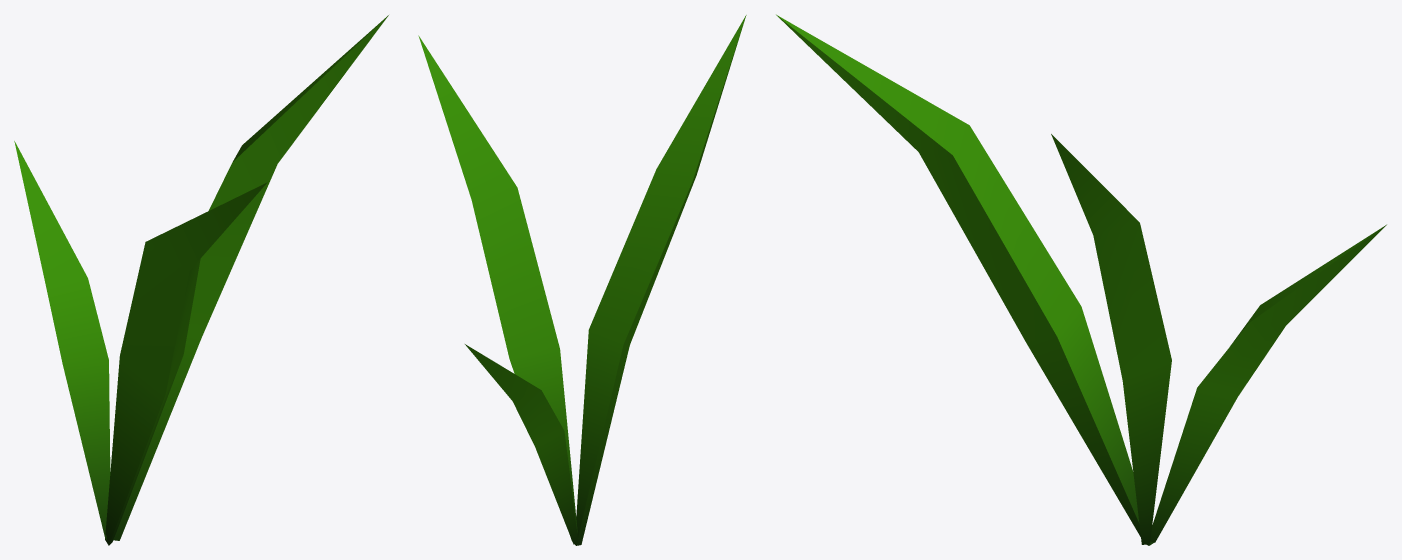
File: ENV_Vegetation_Grass_03.fbx
3 renders of one model, left to right at view 1: azimuth 30°, elevation 25°; view 2: azimuth 150°, elevation 25°; view 3: azimuth 270°, elevation 25°, orthographic. The views are drawn at different scales.
Parts seen in each view (by area): view 1: ENV_Vegetation_Grass_03; view 2: ENV_Vegetation_Grass_03; view 3: ENV_Vegetation_Grass_03.
Part boxes in pixels (x1,y1,x2,y2): ENV_Vegetation_Grass_03: (14, 15, 388, 545); ENV_Vegetation_Grass_03: (418, 15, 746, 545); ENV_Vegetation_Grass_03: (776, 14, 1386, 545).
Bounding box in the file's own units: 15.77 × 27.01 × 28.22.
